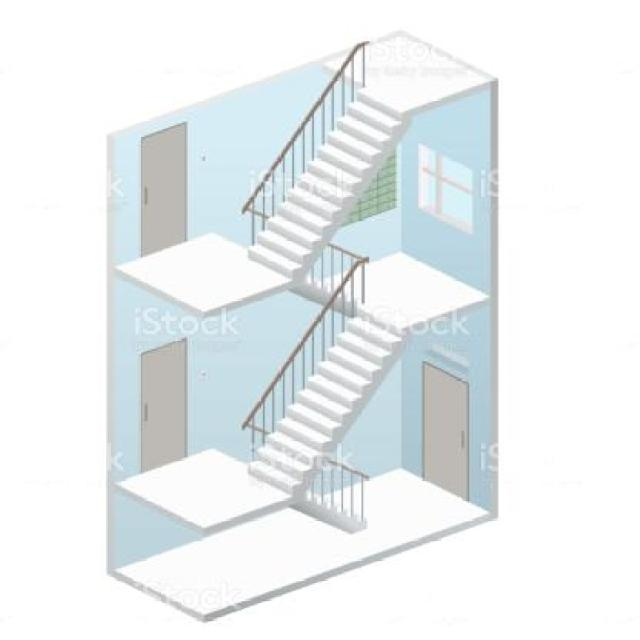stair: (222, 56, 427, 264), (219, 268, 427, 443), (228, 446, 384, 539)
